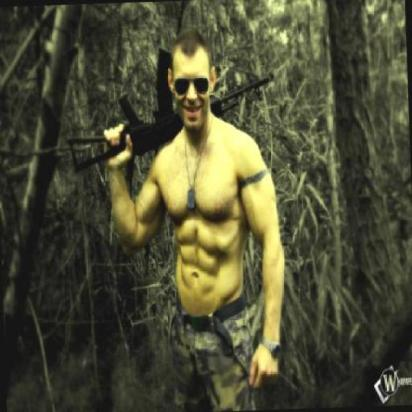Gun: (58, 28, 288, 186)
